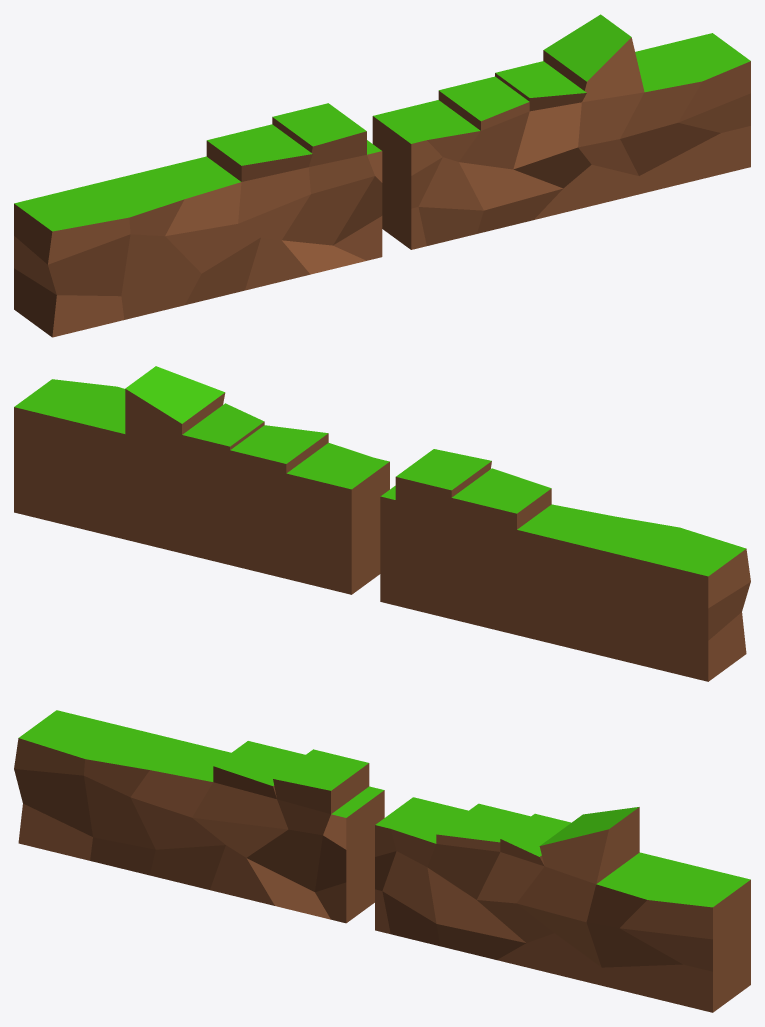
Rendered from Stage.gltf.
3 views of the same model, one above another, from view 1: azimuth 30°, elevation 25°; view 2: azimuth 150°, elevation 25°; view 3: azimuth 330°, elevation 25° (orthographic).
Parts seen in each view (by area): view 1: Cube; view 2: Cube; view 3: Cube.
Boxes of the visible parts, x1,y1,x2,y2 form: Cube: [14, 14, 750, 337]; Cube: [14, 366, 750, 681]; Cube: [14, 710, 750, 1012].
Size of the model in its own units: 13.88 by 2.87 by 1.73.
